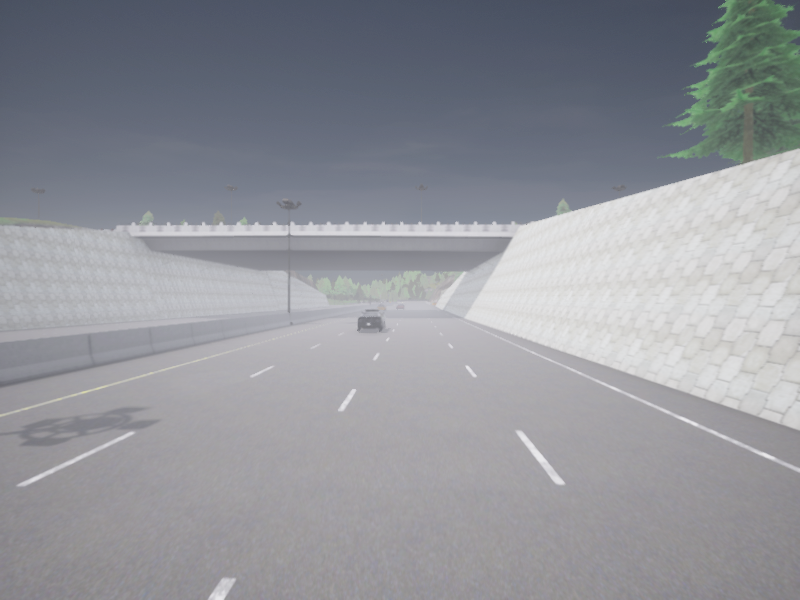vehicle: (357, 309, 385, 330), (377, 304, 386, 310), (397, 304, 404, 308)
